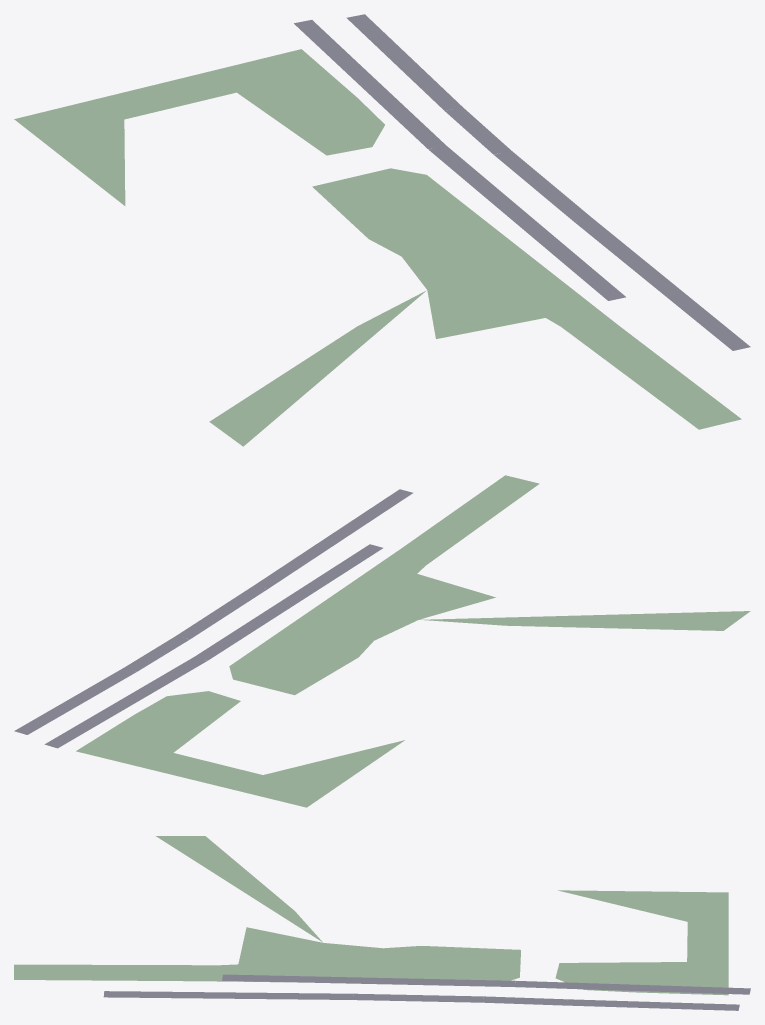
File: 128_67_mid.glb
3 views of the same model, one above another, from view 1: azimuth 30°, elevation 25°; view 2: azimuth 150°, elevation 25°; view 3: azimuth 270°, elevation 25° (orthographic). The views are drawn at different scales.
Size of the model in its own units: 307 by 8.4 by 516.
